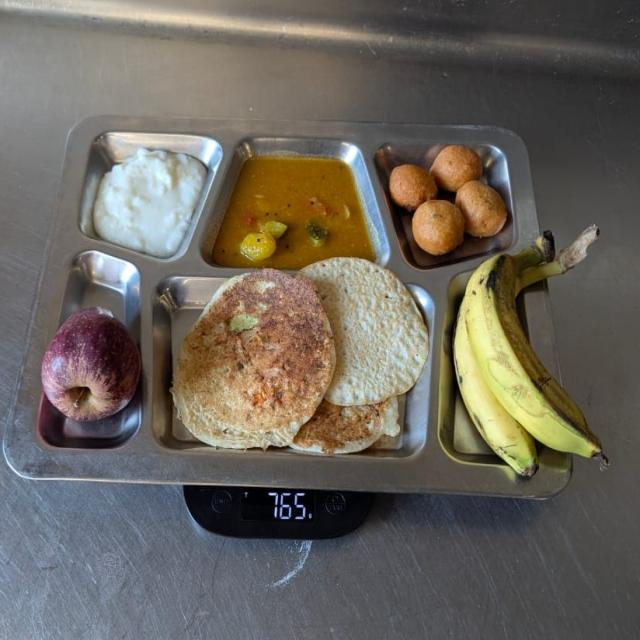Apple: (33, 296, 143, 427)
Banana: (453, 254, 608, 477)
Mysore Bonda: (388, 140, 513, 260)
Porridge: (90, 139, 208, 260)
Sambhar: (210, 152, 379, 270)
Uttapam: (168, 258, 434, 455)
